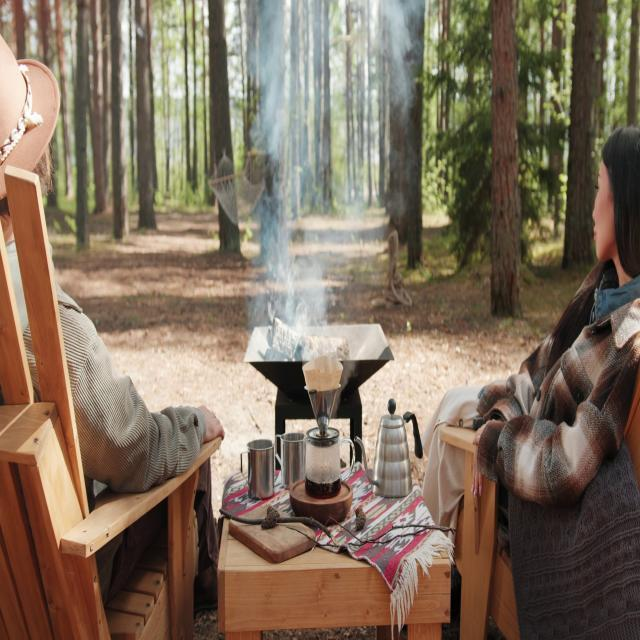Smoke: (208, 1, 424, 358)
